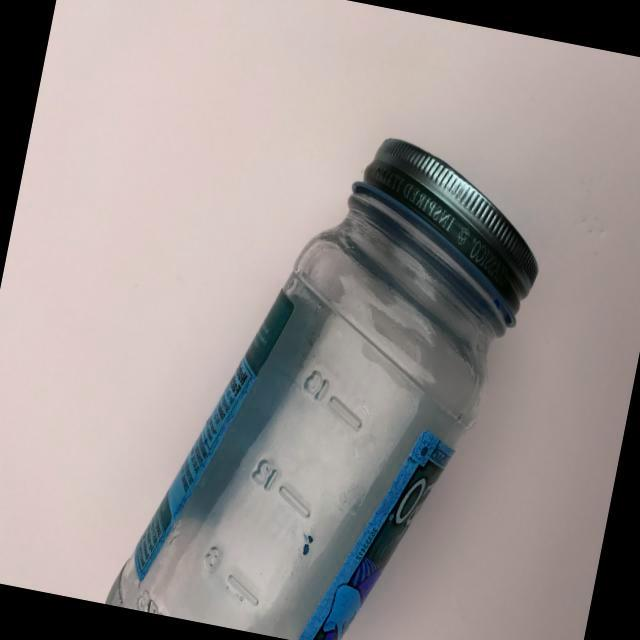glass: (96, 89, 568, 640)
